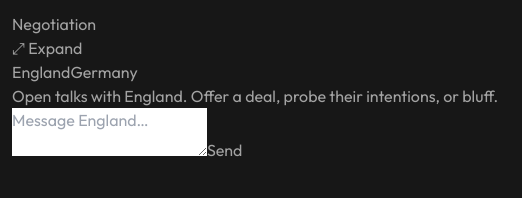
Test case: a chat error stays in the thread it happened in
The image size is (522, 198).
Type "hello" into the text box with class "dip-chat-textarea" at (110, 132), box [12, 108, 207, 156]
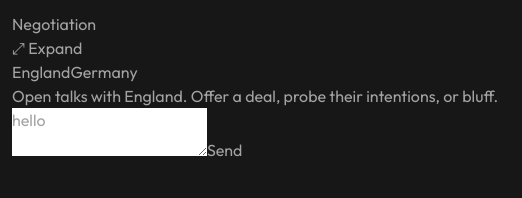
Click the button with class "dip-chat-send" at (225, 150), box [207, 138, 242, 162]
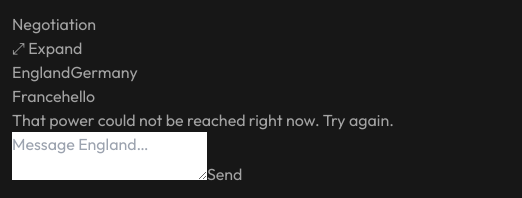
Expected: the text "That power could not be reached right now. Try again." is shown, [12, 110, 394, 130]
Click the button with class "dip-chat-power" showing "Germany" at (104, 72), box [70, 60, 138, 84]
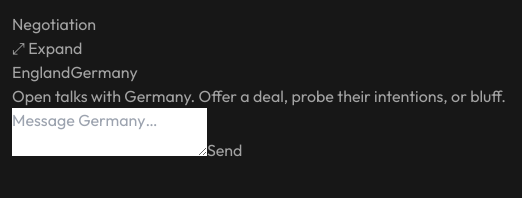
Expected: the text with class "dip-chat-error" is gone
